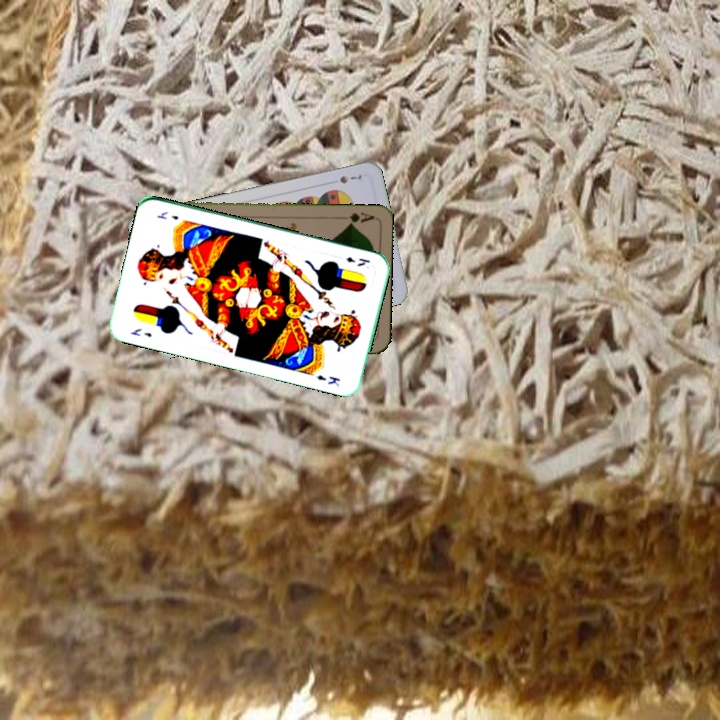EK: (342, 253, 373, 269), (126, 324, 154, 340)
GA: (336, 208, 376, 228)
S7: (335, 171, 365, 186)
